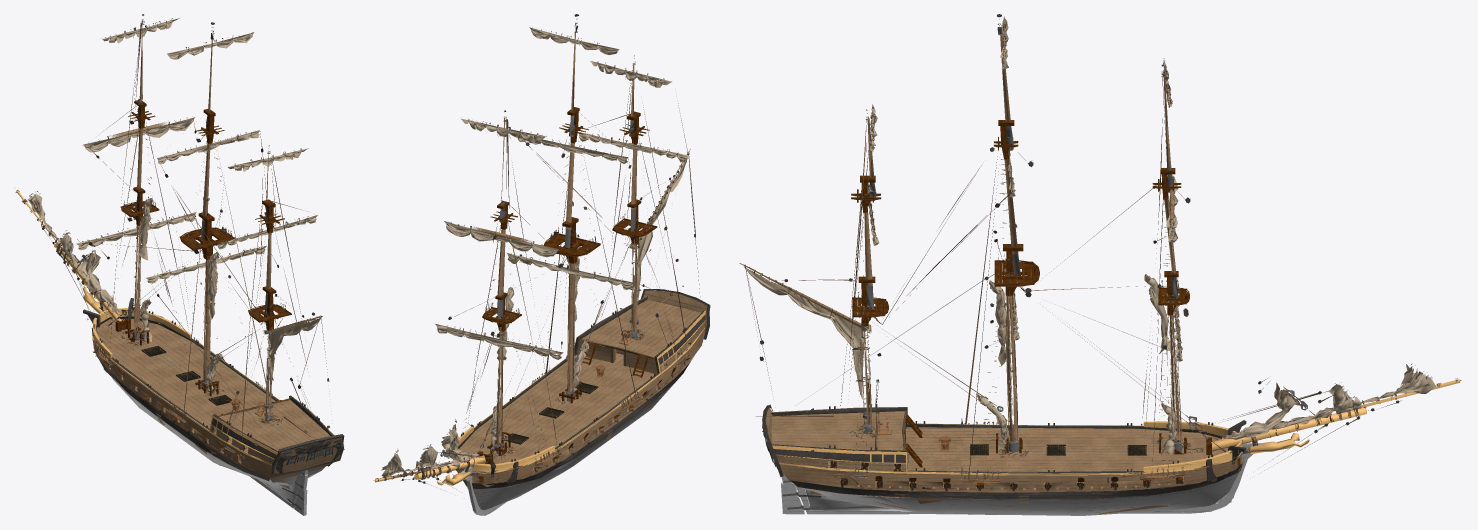
The model's file is beagle-styrbjorn.glb.
The picture shows the model from 3 angles, left to right: view 1: azimuth 30°, elevation 25°; view 2: azimuth 150°, elevation 25°; view 3: azimuth 270°, elevation 25°; orthographic projection. The views are drawn at different scales.
Visible parts, largest first — view 1: SM_Ship04_Mesh; view 2: SM_Ship04_Mesh; view 3: SM_Ship04_Mesh.
Boxes of the visible parts, x1,y1,x2,y2 form: SM_Ship04_Mesh: [15, 14, 344, 515]; SM_Ship04_Mesh: [373, 14, 710, 515]; SM_Ship04_Mesh: [739, 14, 1461, 515].
Size of the model in its own units: 3.48 by 11.4 by 15.
28 materials, 28 textured.
